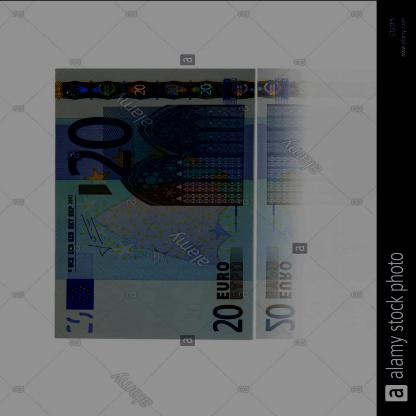euro_banknote: (20, 104, 292, 305)
